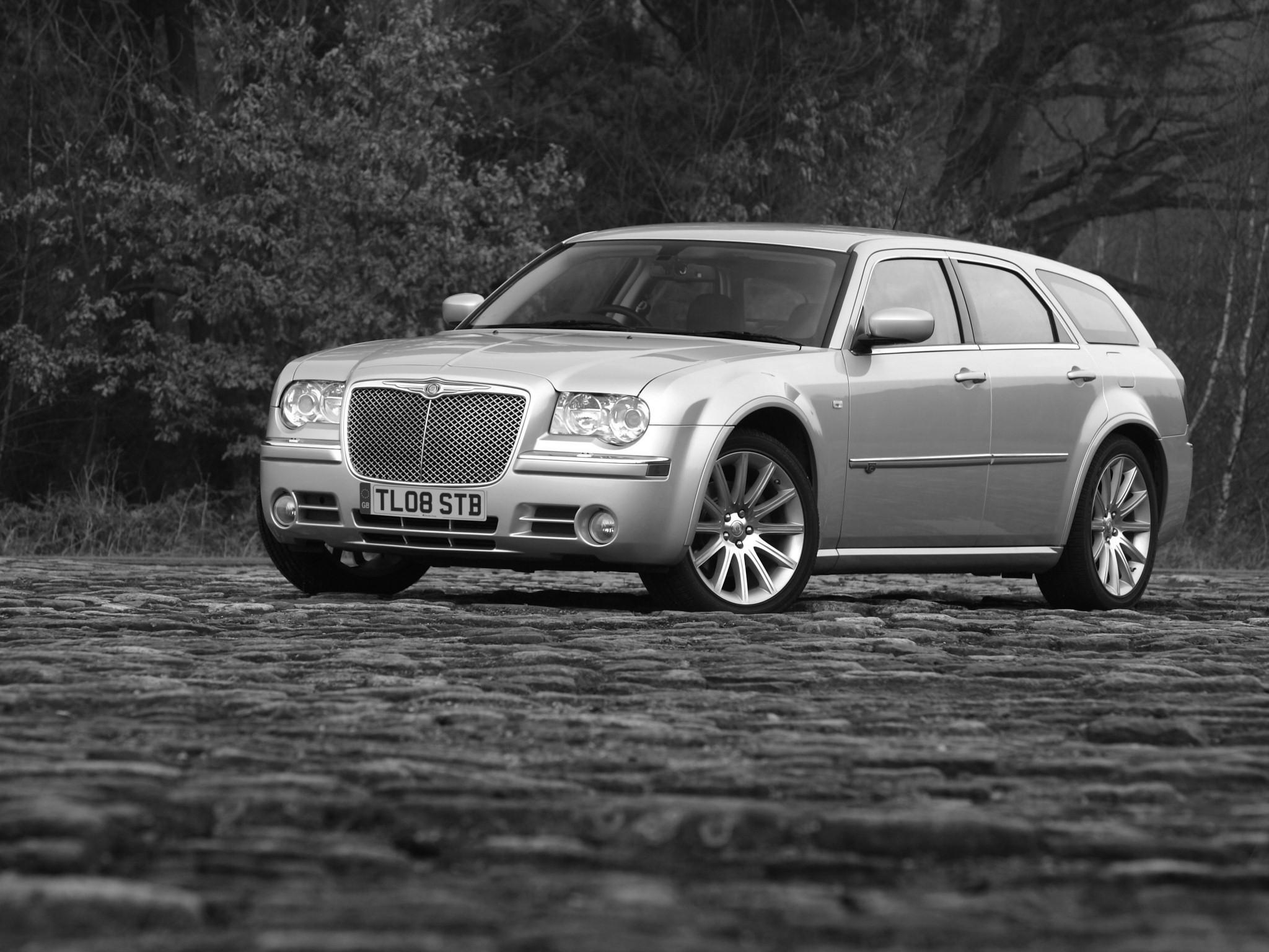car: (255, 217, 1198, 617)
